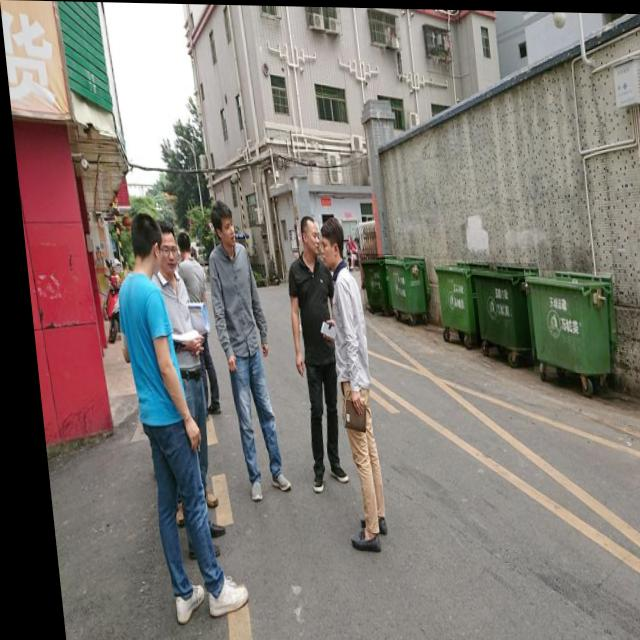garbage_bin: (518, 268, 613, 371), (464, 260, 539, 346), (426, 257, 486, 329), (379, 253, 426, 310), (354, 252, 393, 305)
